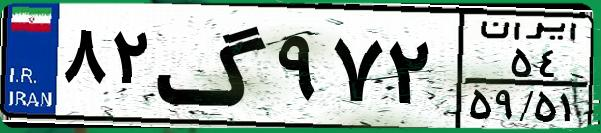1: (560, 70, 590, 125)
2: (385, 28, 445, 110), (110, 28, 156, 98)
4: (537, 27, 568, 80)
5: (508, 27, 537, 80), (470, 70, 495, 125), (535, 70, 560, 125)
7: (330, 28, 385, 110)
8: (57, 26, 110, 100)
9: (270, 28, 330, 110), (495, 70, 520, 125)
گ: (156, 12, 270, 120)
